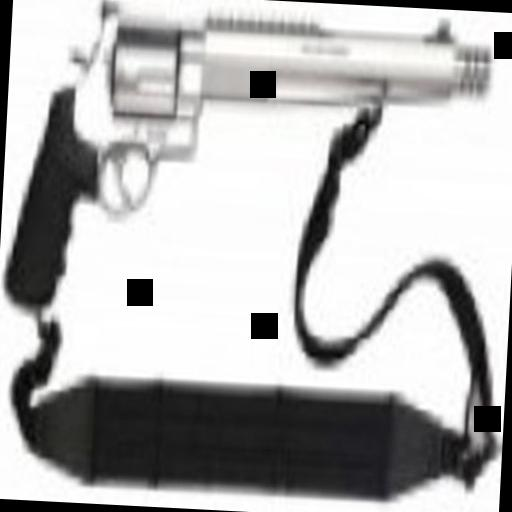Handgun: (2, 0, 488, 338)
